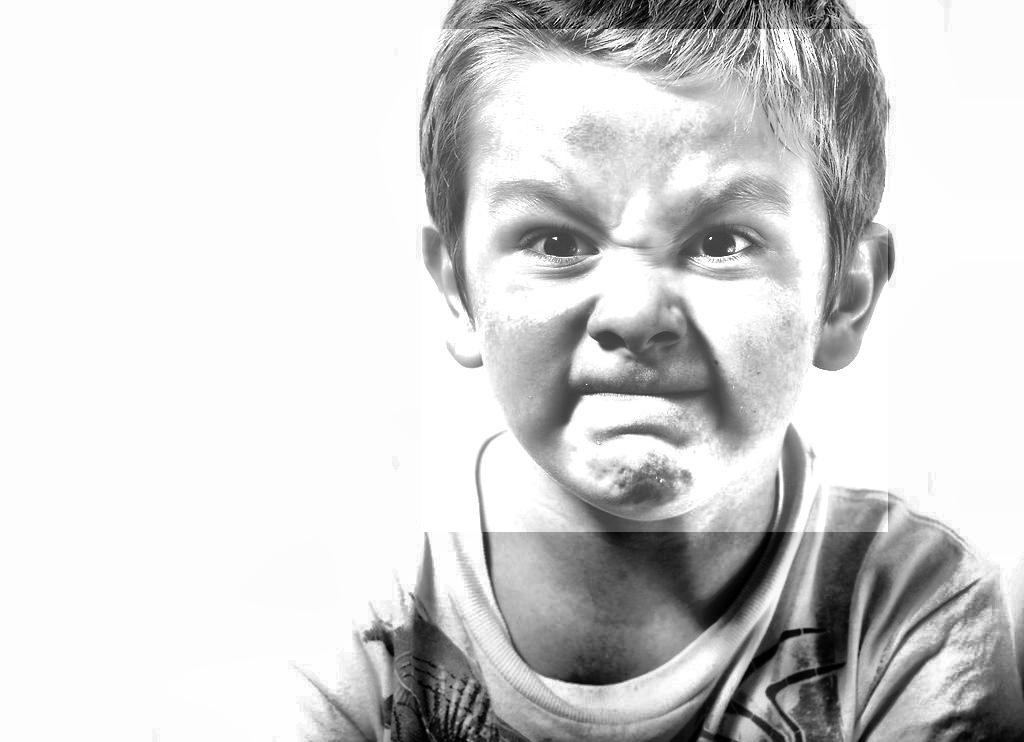Angry: (422, 30, 889, 533)
